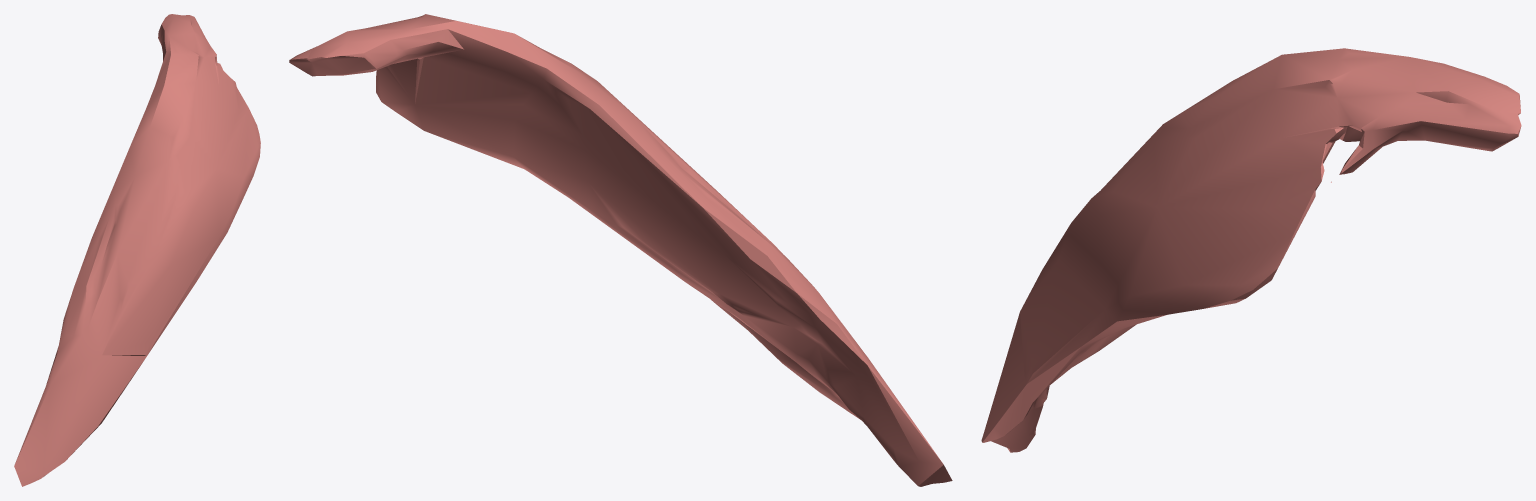
File: fma37386_fj1483.glb
The picture shows the model from 3 angles, left to right: view 1: azimuth 30°, elevation 25°; view 2: azimuth 150°, elevation 25°; view 3: azimuth 270°, elevation 25°; orthographic projection. The views are drawn at different scales.
Parts seen in each view (by area): view 1: FMA37386_FJ1483; view 2: FMA37386_FJ1483; view 3: FMA37386_FJ1483.
Boxes of the visible parts, <box> form: FMA37386_FJ1483: <box>14,14,260,486</box>; FMA37386_FJ1483: <box>289,14,952,486</box>; FMA37386_FJ1483: <box>981,48,1521,452</box>.
Bounding box in the file's own units: 0.0392 × 0.0382 × 0.0297.
